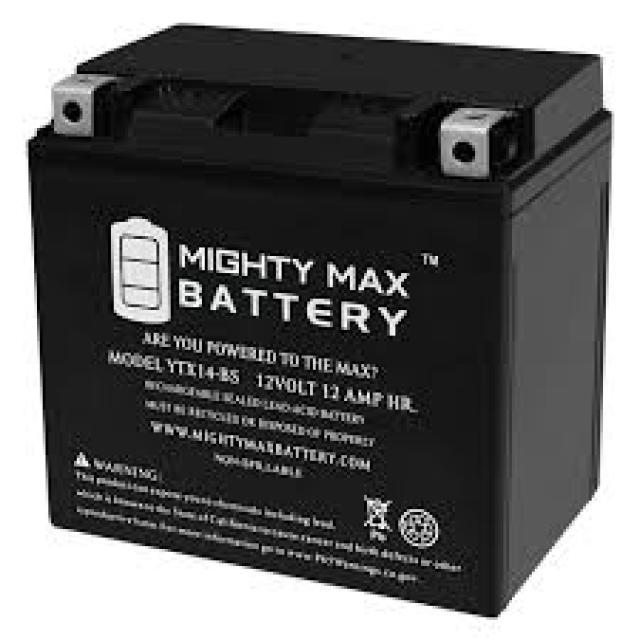Battery: (24, 20, 611, 619)
